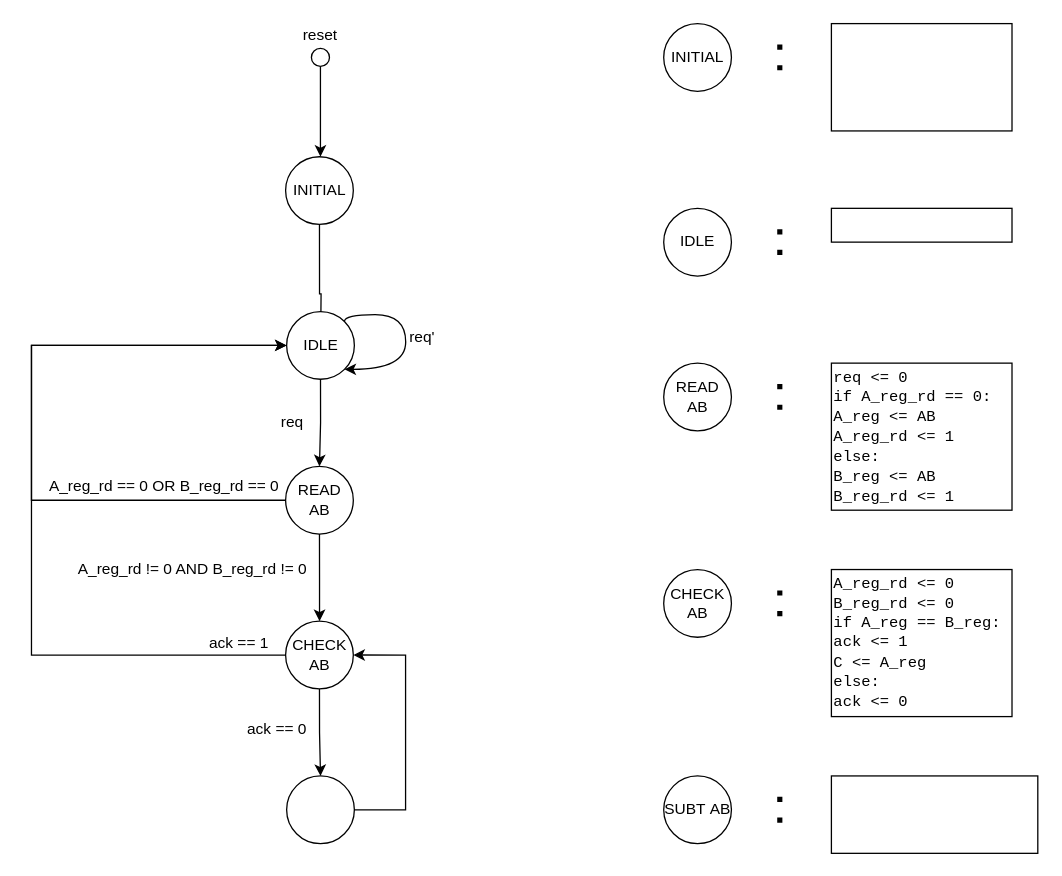
This 1062x876 diagram has some shape labels left out. The box of each missing label's shape, as (x1, y1, x2, y2) in pixels:
ack <= 0: (830, 207, 1012, 242)
DEVIDE AB: (285, 775, 354, 844)
reset <= 0 req <= 0 ack <= 0 A_reg_rd <= 0 B_reg_rd <= 0: (830, 22, 1012, 131)
temp = B_reg B_reg = A_reg % B_reg A_reg = temp: (830, 775, 1038, 853)
